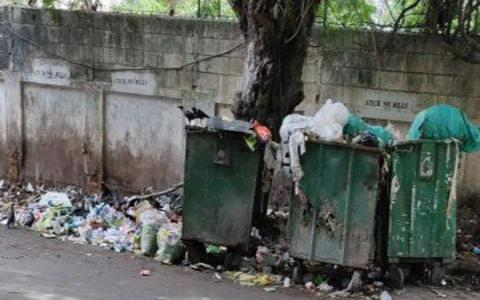overflowing garbage: (32, 120, 268, 270), (275, 110, 390, 292)
